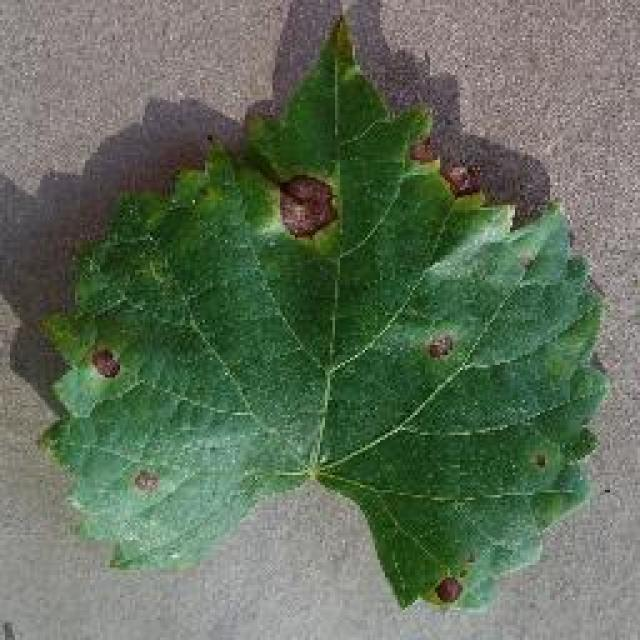Grape___Black_rot: (25, 9, 618, 616)
